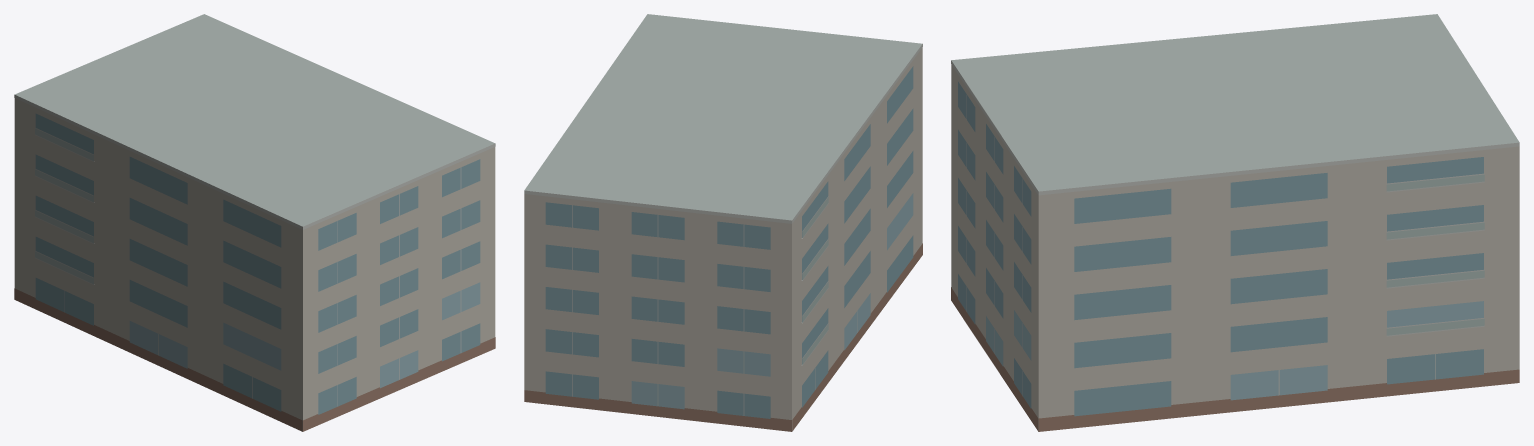
Rendered from survey-upis-32713586.glb.
3 views of the same model, side by side, from view 1: azimuth 30°, elevation 25°; view 2: azimuth 150°, elevation 25°; view 3: azimuth 270°, elevation 25° (orthographic). The views are drawn at different scales.
Visible parts, largest first — view 1: survey-upis-32713586.tmp; view 2: survey-upis-32713586.tmp; view 3: survey-upis-32713586.tmp.
Boxes of the visible parts, x1=… form: survey-upis-32713586.tmp: x1=14, y1=14, x2=495, y2=431; survey-upis-32713586.tmp: x1=524, y1=14, x2=922, y2=431; survey-upis-32713586.tmp: x1=951, y1=14, x2=1519, y2=431.
Size of the model in its own units: 24.17 by 15.25 by 32.71.
